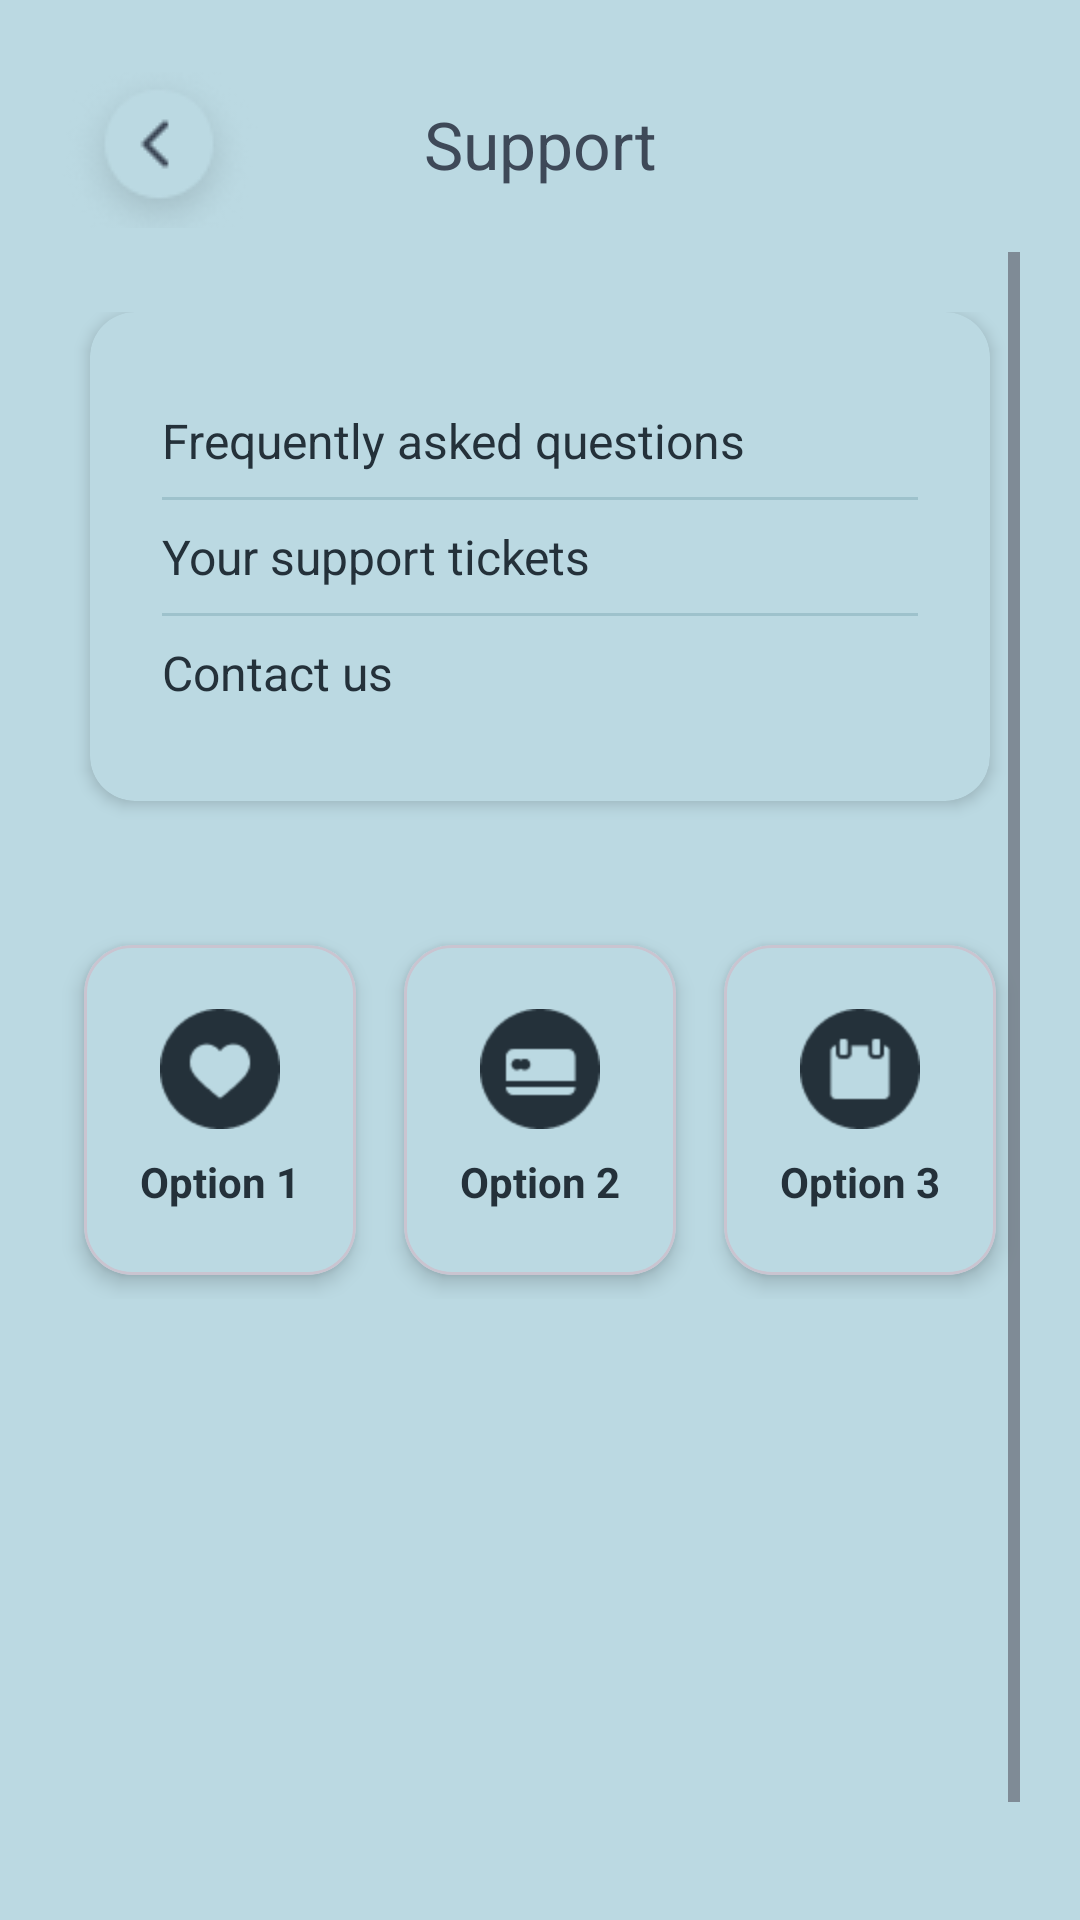

Where icons sit on this 1080 × 1920 app screen, as (x1, y1, x2, y2):
calendar: (800, 1009, 920, 1129)
card option: (480, 1009, 600, 1129)
heart: (160, 1009, 280, 1129)
